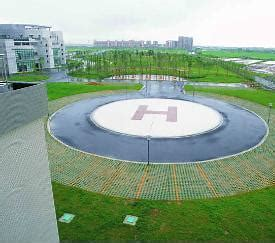H: (131, 105, 178, 123)
